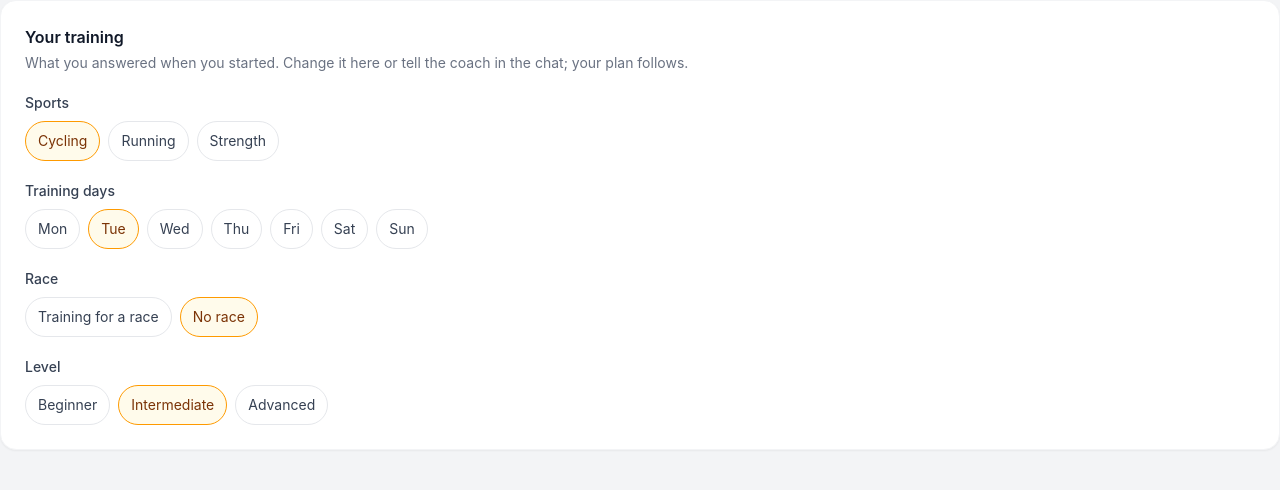
TrainingAnswersSettings (ai-trainer-ops#202) › keeps at least one training day
The width and height of the screenshot is (1280, 490).
Click the button "Tue": point(114, 229) [88,209,139,249]
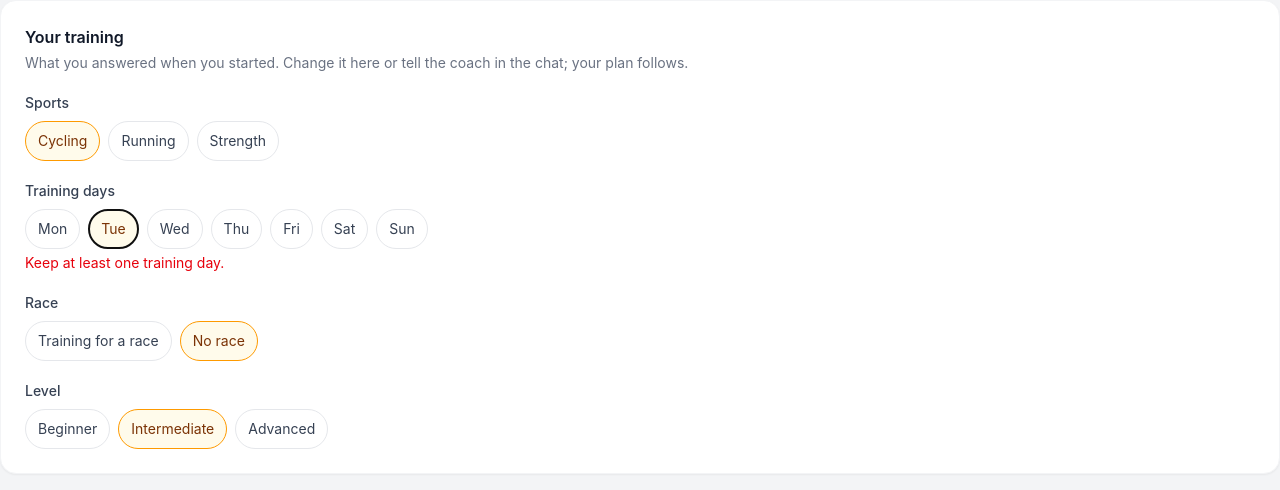
Expected: the message reads "Keep at least one training day.", [25,254,224,271]
